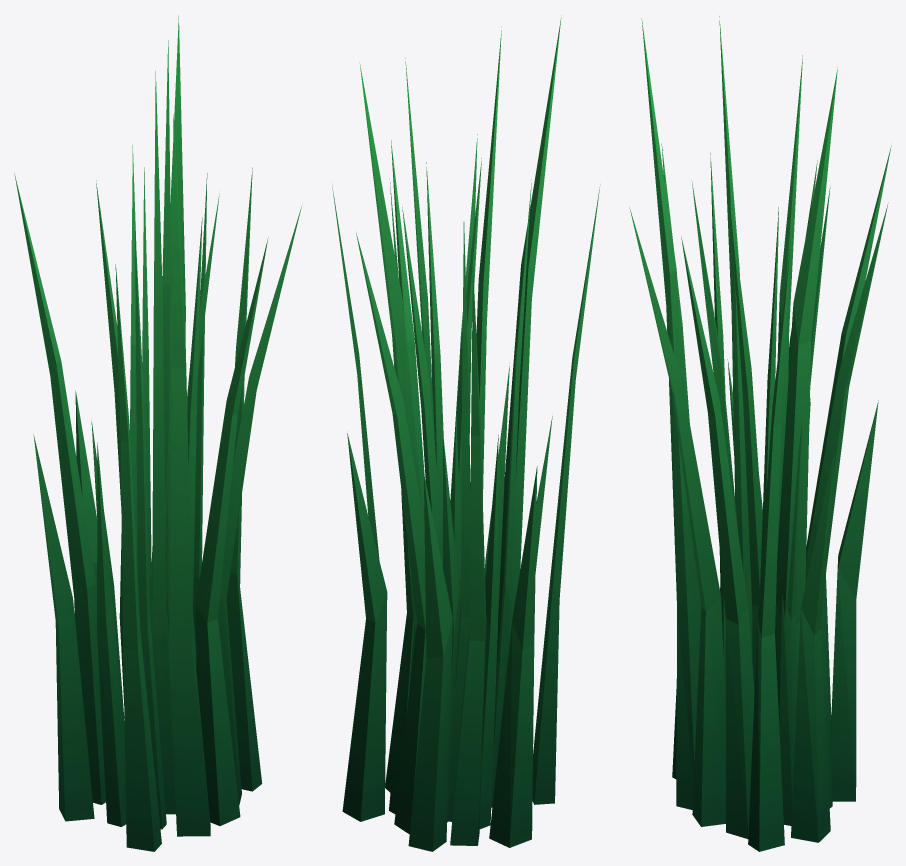
Rendered from tallgrass_c.glb.
3 views of the same model, side by side, from view 1: azimuth 30°, elevation 25°; view 2: azimuth 150°, elevation 25°; view 3: azimuth 270°, elevation 25° (orthographic).
Visible parts, largest first — view 1: GrassHigh_B_4; view 2: GrassHigh_B_4; view 3: GrassHigh_B_4.
Boxes of the visible parts, bbox=[...] form: GrassHigh_B_4: bbox=[14, 15, 301, 851]; GrassHigh_B_4: bbox=[332, 15, 600, 851]; GrassHigh_B_4: bbox=[629, 16, 891, 851].
Bounding box in the file's own units: 0.3034 × 1.05 × 0.3227.
Materials: 1 (1 with a texture image).
